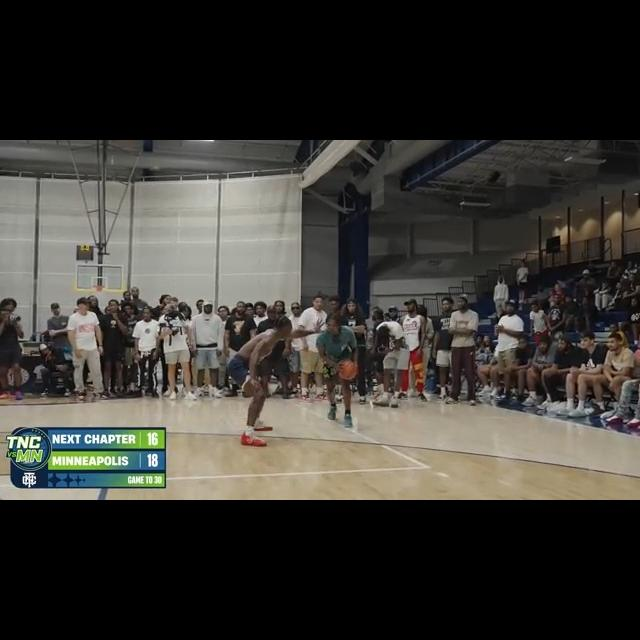basketball: (336, 357, 357, 381)
